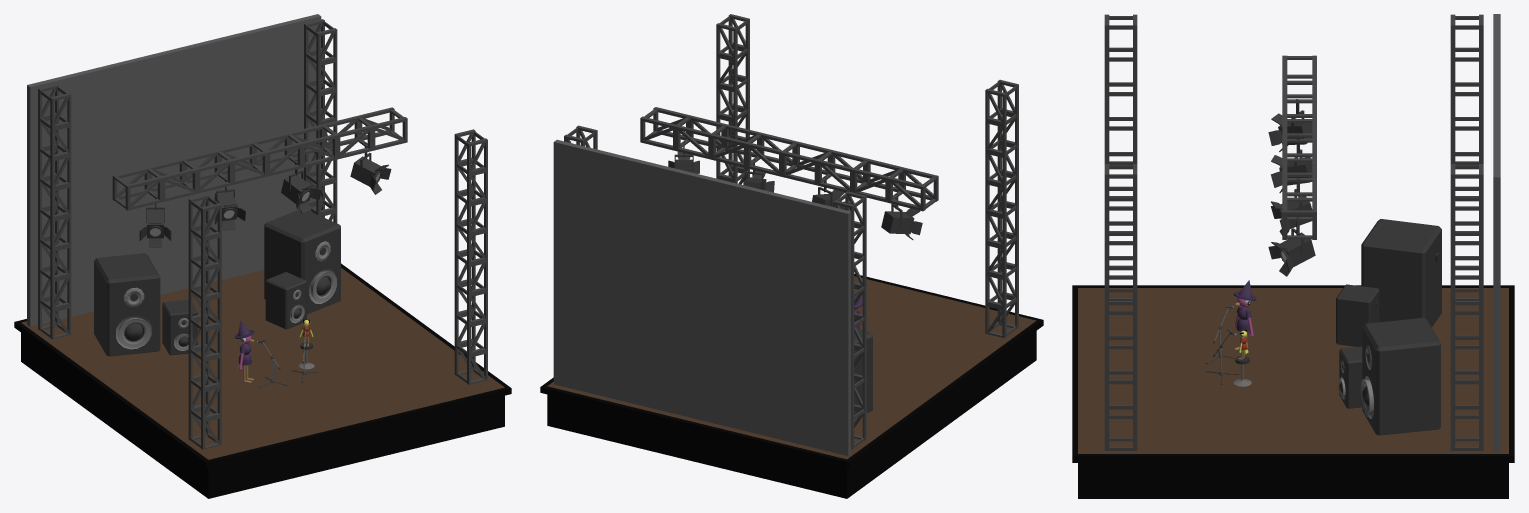
Rendered from GameJam2Stage.fbx.
The picture shows the model from 3 angles, left to right: view 1: azimuth 30°, elevation 25°; view 2: azimuth 150°, elevation 25°; view 3: azimuth 270°, elevation 25°; orthographic projection. The views are drawn at different scales.
Visible parts, largest first — view 1: stage, backdrop, rack_01, rack_02, rack_05, rack_03, speaker_02, spekaer_01, rack_04, speaker_04, speaker_03, spotlight_03 (+3 smaller); view 2: backdrop, stage, rack_01, rack_02, rack_03, rack_05, speaker_02, spotlight_04; view 3: stage, spekaer_01, speaker_02, rack_04, rack_03, rack_01, backdrop, rack_05, rack_02, speaker_03, speaker_04, spotlight_05 (+3 smaller).
Boxes of the visible parts, bbox=[...] form: stage: bbox=[14, 263, 511, 498]; backdrop: bbox=[27, 14, 321, 326]; rack_01: bbox=[112, 107, 407, 210]; rack_02: bbox=[188, 194, 221, 449]; rack_05: bbox=[38, 84, 71, 339]; rack_03: bbox=[454, 129, 487, 384]; speaker_02: bbox=[94, 253, 160, 356]; spekaer_01: bbox=[264, 209, 340, 314]; rack_04: bbox=[304, 19, 337, 223]; speaker_04: bbox=[265, 272, 306, 329]; speaker_03: bbox=[162, 299, 197, 355]; spotlight_03: bbox=[281, 159, 321, 213]; backdrop: bbox=[553, 139, 851, 455]; stage: bbox=[540, 273, 1043, 498]; rack_01: bbox=[640, 107, 938, 211]; rack_02: bbox=[985, 79, 1018, 338]; rack_03: bbox=[716, 14, 749, 184]; rack_05: bbox=[833, 191, 866, 449]; speaker_02: bbox=[854, 327, 872, 414]; spotlight_04: bbox=[881, 193, 922, 239]; stage: bbox=[1072, 285, 1514, 498]; spekaer_01: bbox=[1360, 317, 1440, 435]; speaker_02: bbox=[1361, 219, 1441, 327]; rack_04: bbox=[1450, 164, 1483, 450]; rack_03: bbox=[1104, 164, 1137, 450]; rack_01: bbox=[1282, 55, 1316, 239]; backdrop: bbox=[1493, 14, 1500, 452]; rack_05: bbox=[1450, 14, 1483, 300]; rack_02: bbox=[1104, 14, 1137, 300]; speaker_03: bbox=[1335, 284, 1379, 346]; speaker_04: bbox=[1338, 346, 1362, 408]; spotlight_05: bbox=[1268, 217, 1315, 276].
Size of the model in its own units: 21.46 by 18.8 by 23.45.
